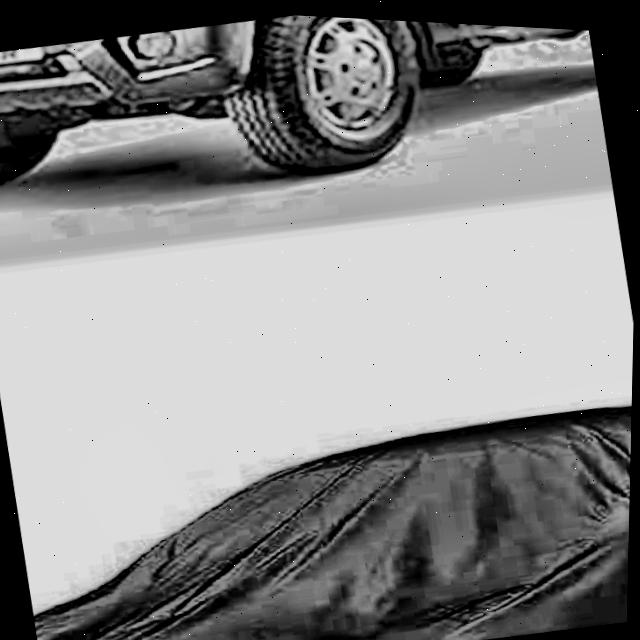light_vehicle: (0, 0, 610, 257)
